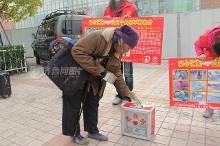bending: (44, 23, 138, 146)
